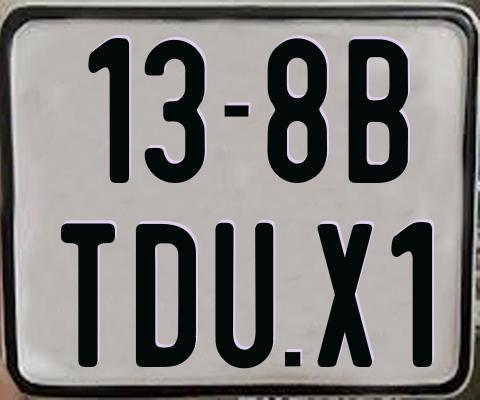1: (87, 38, 131, 184), (390, 221, 433, 366)
3: (144, 38, 205, 186)
8: (265, 35, 327, 180)
B: (346, 38, 408, 182)
D: (136, 222, 199, 367)
T: (58, 221, 112, 366)
U: (212, 223, 270, 369)
X: (316, 222, 374, 366)
